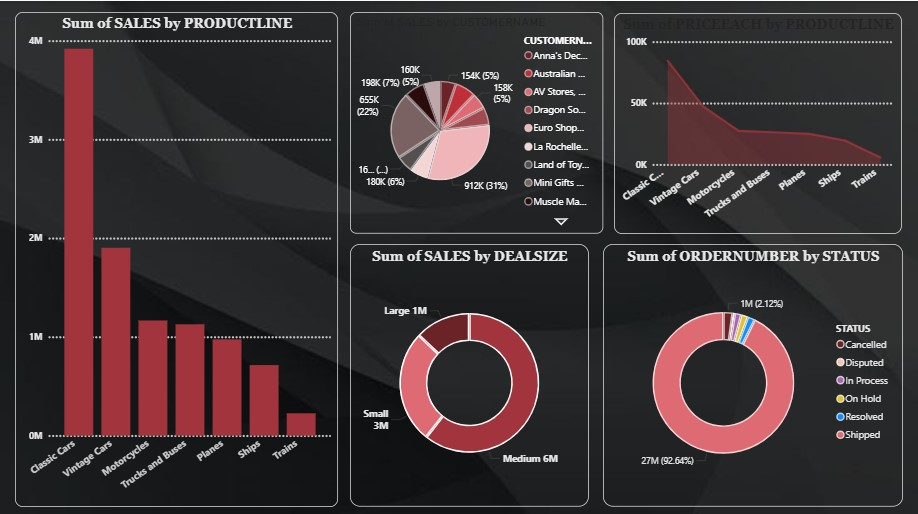

What the dashboard file says about the page in this screenshot:
{"tool":"powerbi","page":{"name":"Page 2","canvas":[1280,720],"ordinal":1},"visuals":[{"type":"columnChart","fields":{"Category":["sales_data_sample.PRODUCTLINE"],"Y":["Sum(sales_data_sample.SALES)"]},"box":[21.4,15.7,449.5,687.8],"z":0},{"type":"pieChart","fields":{"Category":["sales_data_sample.CUSTOMERNAME"],"Y":["Sum(sales_data_sample.SALES)"]},"box":[486.7,15,351.7,308.3],"z":1000},{"type":"donutChart","fields":{"Y":["Sum(sales_data_sample.SALES)"],"Category":["sales_data_sample.DEALSIZE"]},"box":[486.7,338.3,331.7,365],"z":2000},{"type":"donutChart","fields":{"Y":["Sum(sales_data_sample.ORDERNUMBER)"],"Series":["sales_data_sample.STATUS"]},"box":[838.3,338.3,416.7,365],"z":3000},{"type":"areaChart","fields":{"Y":["Sum(sales_data_sample.PRICEEACH)"],"Category":["sales_data_sample.PRODUCTLINE"]},"box":[853.3,16.7,400,306.7],"z":4000}]}

Visuals, with their boxes in screenshot pixels (x1, y1, x2, y2), scaled from the page's 1280x720 canvas onto the 918x514 screenshot:
columnChart - sales_data_sample.PRODUCTLINE x Sum(sales_data_sample.SALES): <bbox>15, 11, 338, 502</bbox>
pieChart - sales_data_sample.CUSTOMERNAME x Sum(sales_data_sample.SALES): <bbox>349, 11, 601, 231</bbox>
donutChart - Sum(sales_data_sample.SALES) x sales_data_sample.DEALSIZE: <bbox>349, 242, 587, 502</bbox>
donutChart - Sum(sales_data_sample.ORDERNUMBER) x sales_data_sample.STATUS: <bbox>601, 242, 900, 502</bbox>
areaChart - Sum(sales_data_sample.PRICEEACH) x sales_data_sample.PRODUCTLINE: <bbox>612, 12, 899, 231</bbox>
